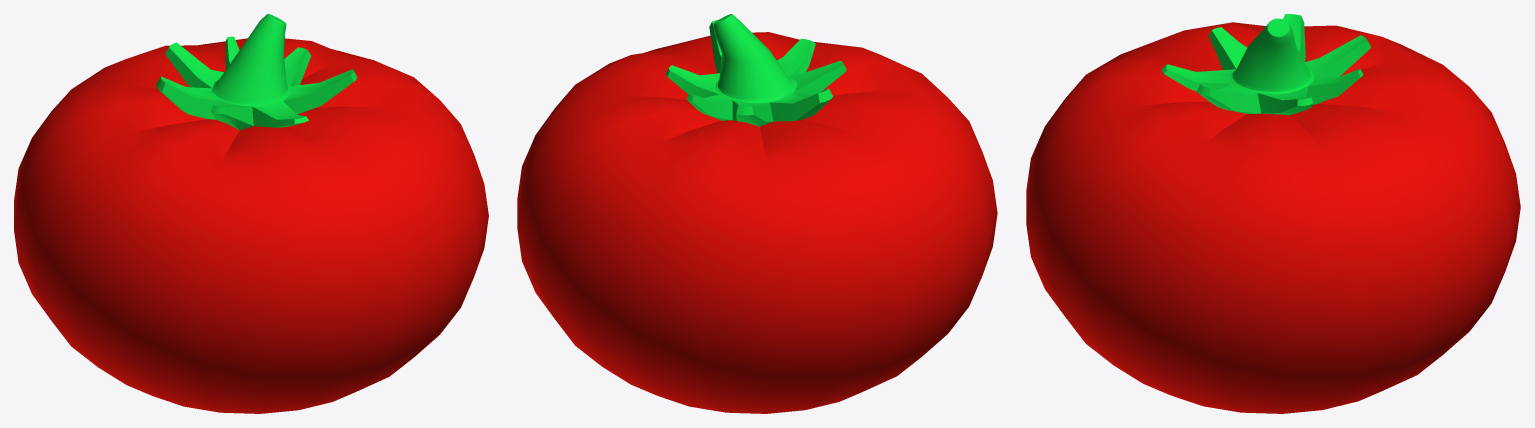
File: Tomatoe_full.fbx
3 views of the same model, side by side, from view 1: azimuth 30°, elevation 25°; view 2: azimuth 150°, elevation 25°; view 3: azimuth 270°, elevation 25° (orthographic). The views are drawn at different scales.
Visible parts, largest first — view 1: Tomatoe_full; view 2: Tomatoe_full; view 3: Tomatoe_full.
Boxes of the visible parts, left/top/right/bottom form: Tomatoe_full: left=14, top=14, right=488, bottom=413; Tomatoe_full: left=517, top=14, right=997, bottom=413; Tomatoe_full: left=1026, top=14, right=1520, bottom=413.
Size of the model in its own units: 96.58 by 81.43 by 96.31.
